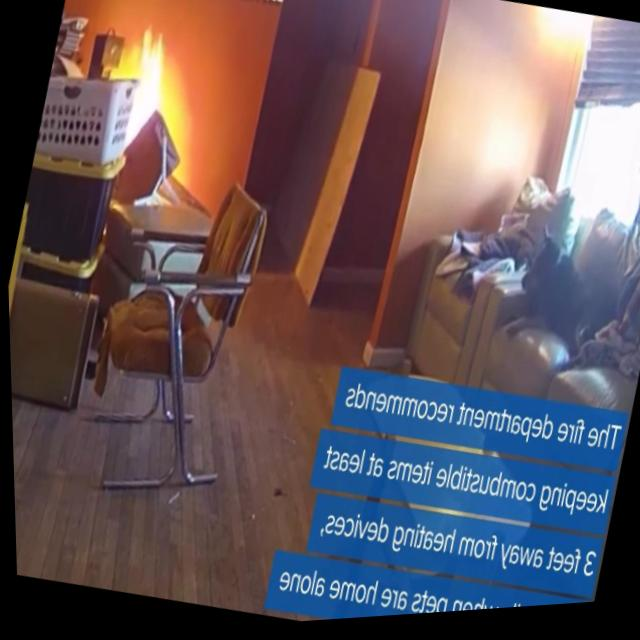fire: (106, 17, 187, 157)
